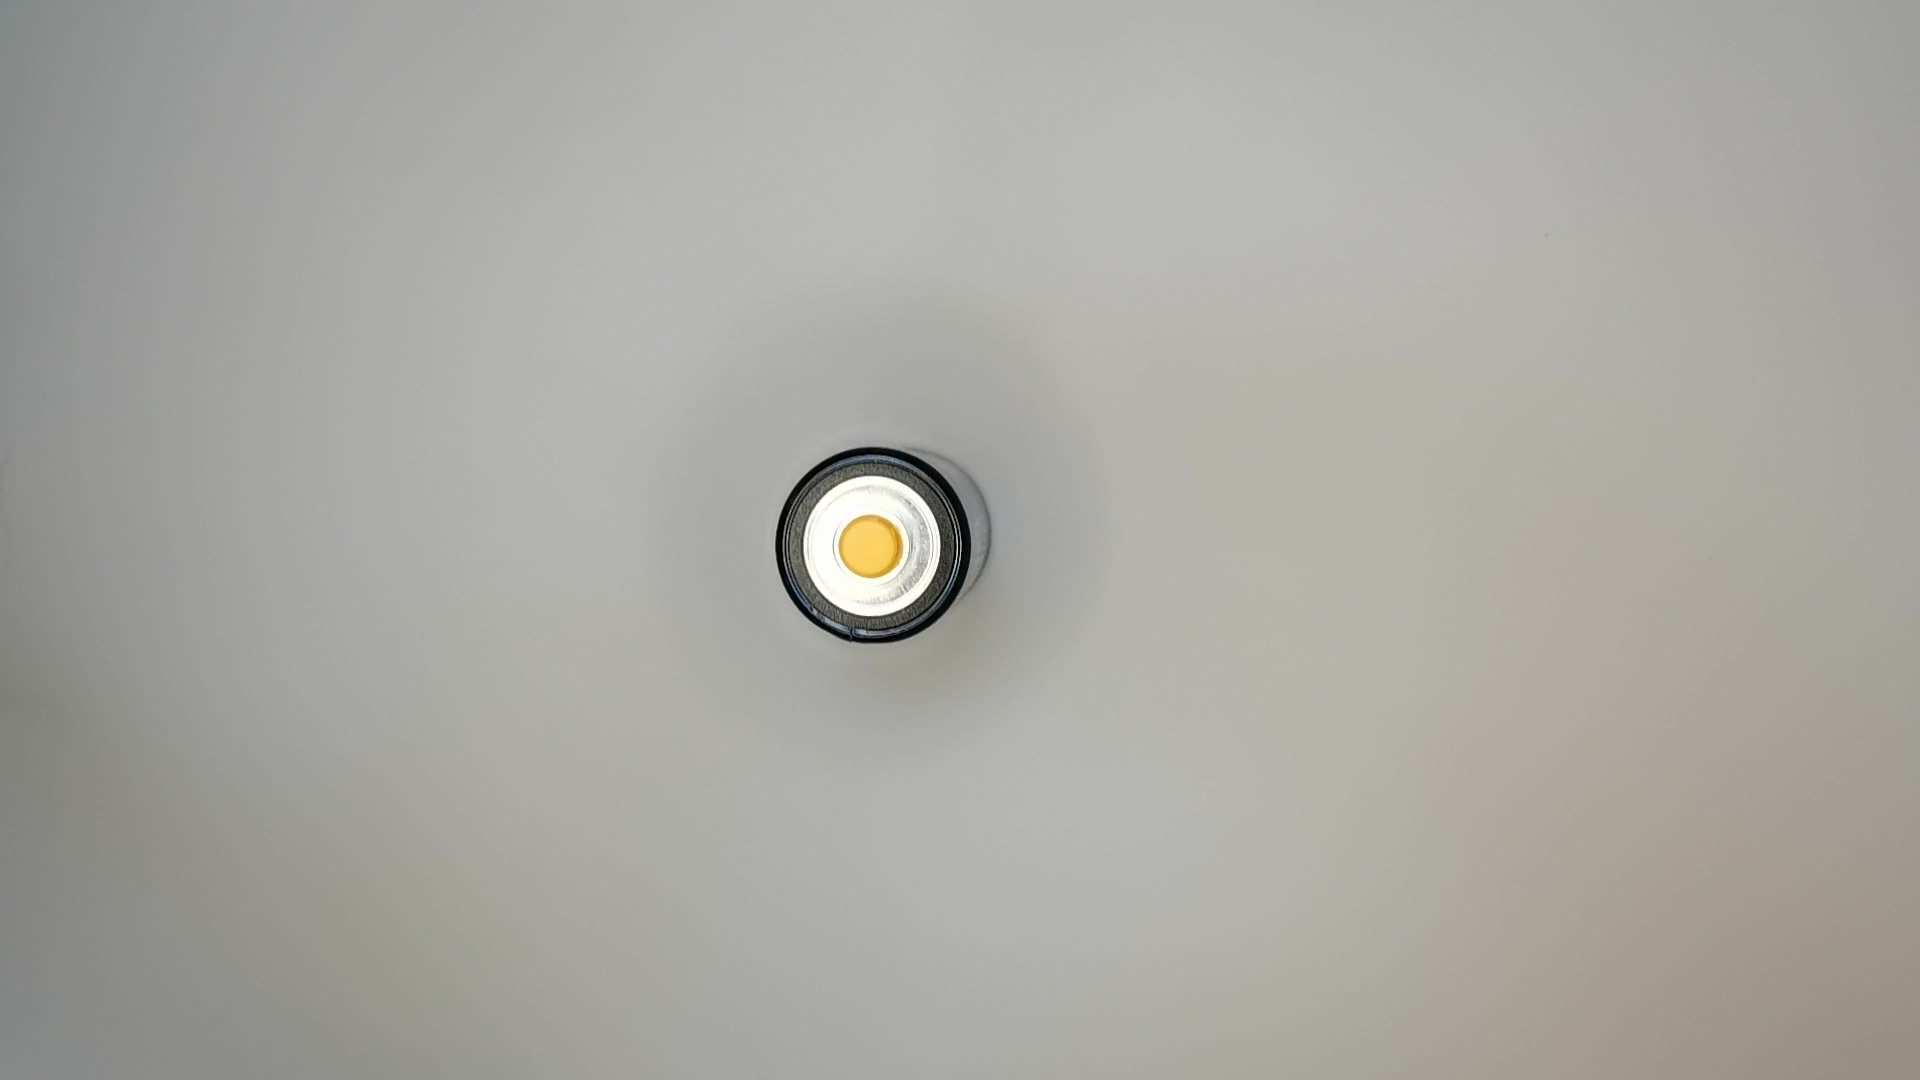battery: (775, 440, 1001, 651)
